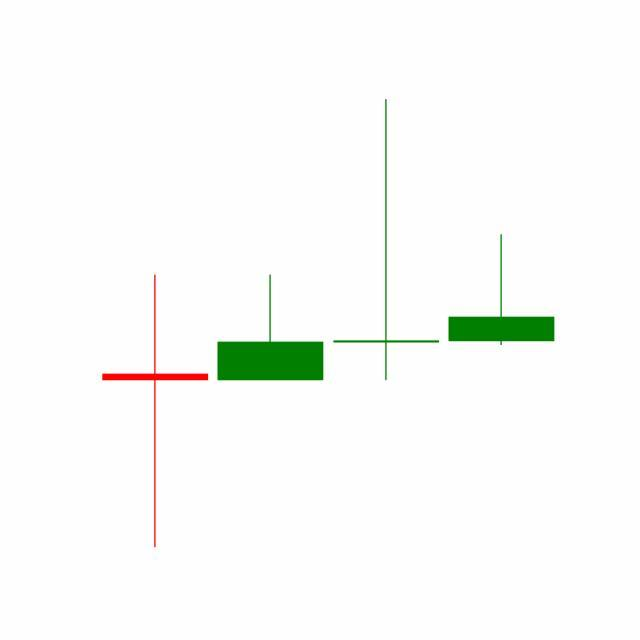Gravestone Doji: (444, 233, 560, 347)
